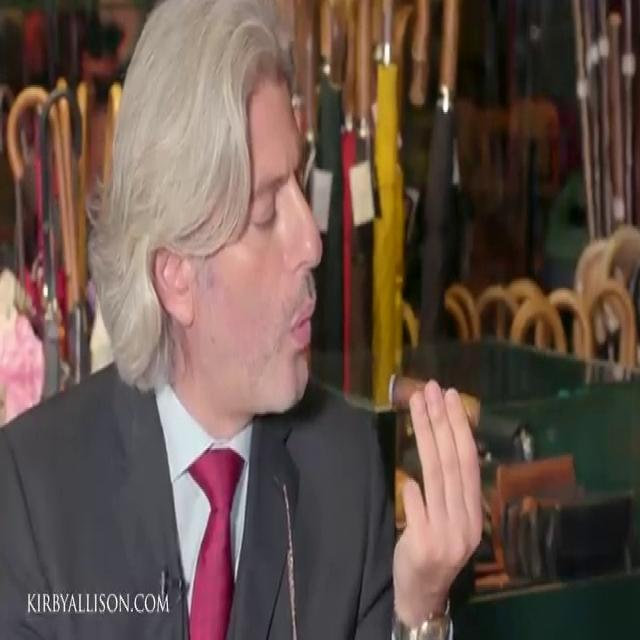Smooking: (377, 368, 482, 458)
